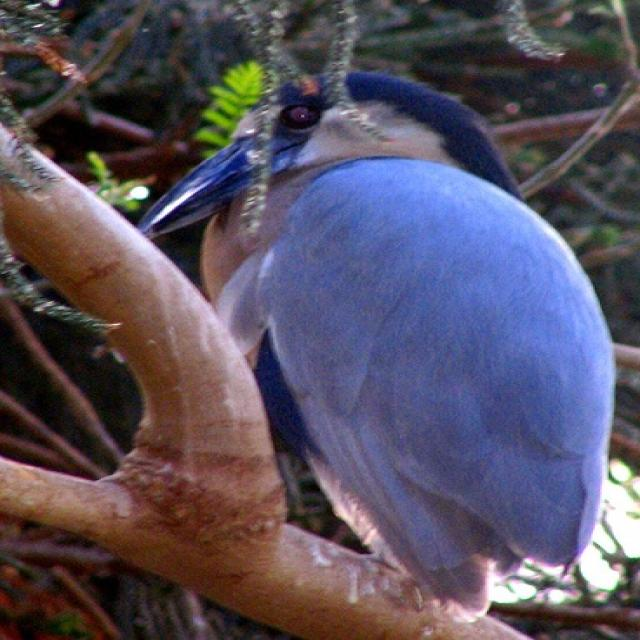bird: (137, 69, 614, 622)
